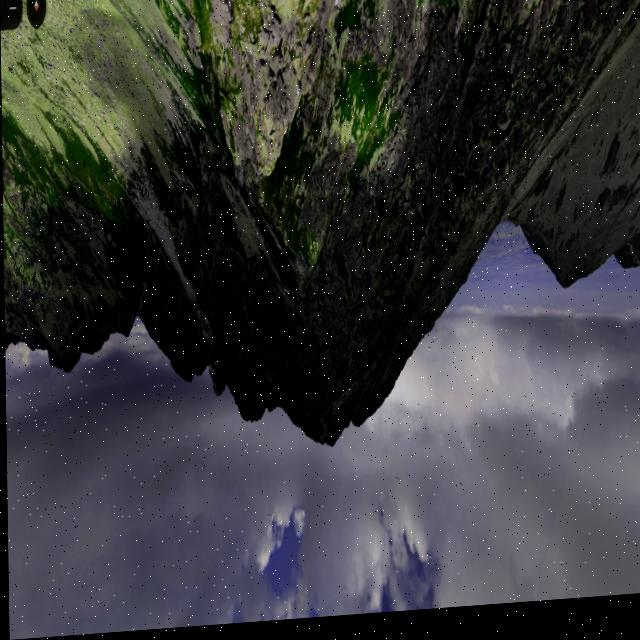Kozi Wierch: (25, 298, 103, 434)
Swinica: (208, 277, 456, 616)
